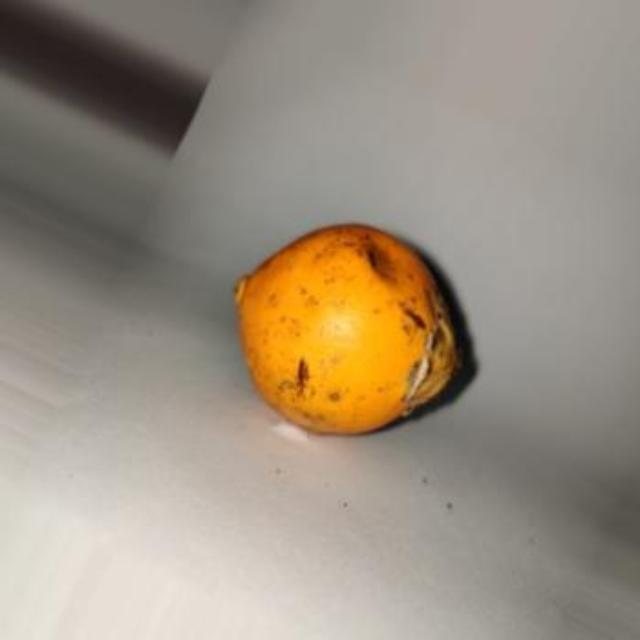good: (232, 223, 474, 439)
